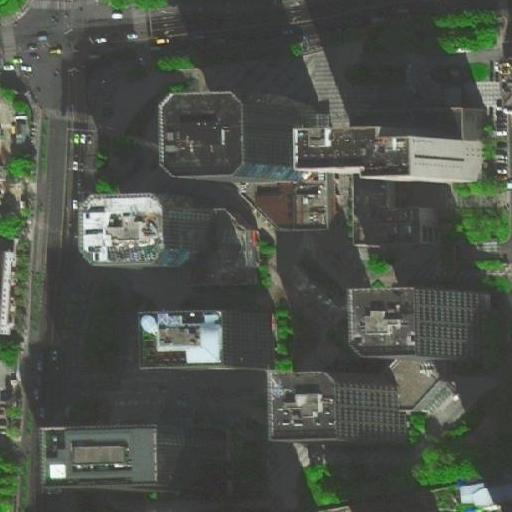building: (48, 428, 237, 488), (178, 85, 294, 177), (82, 194, 222, 268), (170, 310, 275, 373), (179, 209, 259, 289), (343, 134, 479, 180), (240, 175, 340, 231), (388, 292, 474, 357), (350, 185, 434, 249), (387, 361, 474, 421), (291, 382, 385, 433), (413, 107, 486, 139), (0, 252, 16, 339), (454, 482, 486, 504)
